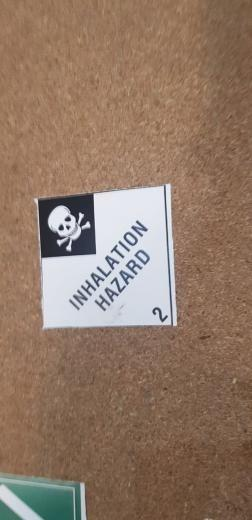poison: (35, 183, 179, 327)
